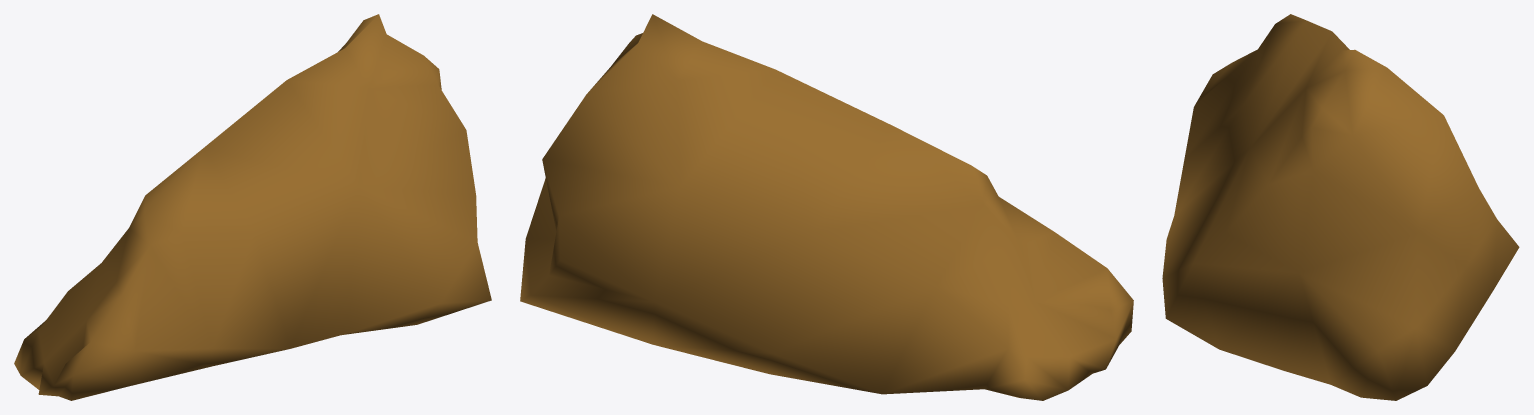
File: MSH_Rock_Single_18.FBX
The picture shows the model from 3 angles, left to right: view 1: azimuth 30°, elevation 25°; view 2: azimuth 150°, elevation 25°; view 3: azimuth 270°, elevation 25°; orthographic projection. The views are drawn at different scales.
Parts seen in each view (by area): view 1: MESH_LOD0; view 2: MESH_LOD0; view 3: MESH_LOD0.
Boxes of the visible parts, box(x1,y1,x2,y2) form: MESH_LOD0: box(14, 14, 491, 400); MESH_LOD0: box(520, 14, 1133, 400); MESH_LOD0: box(1162, 14, 1519, 400).
Size of what is drawn, in the model's own units: 40.21 by 21.85 by 23.52.
